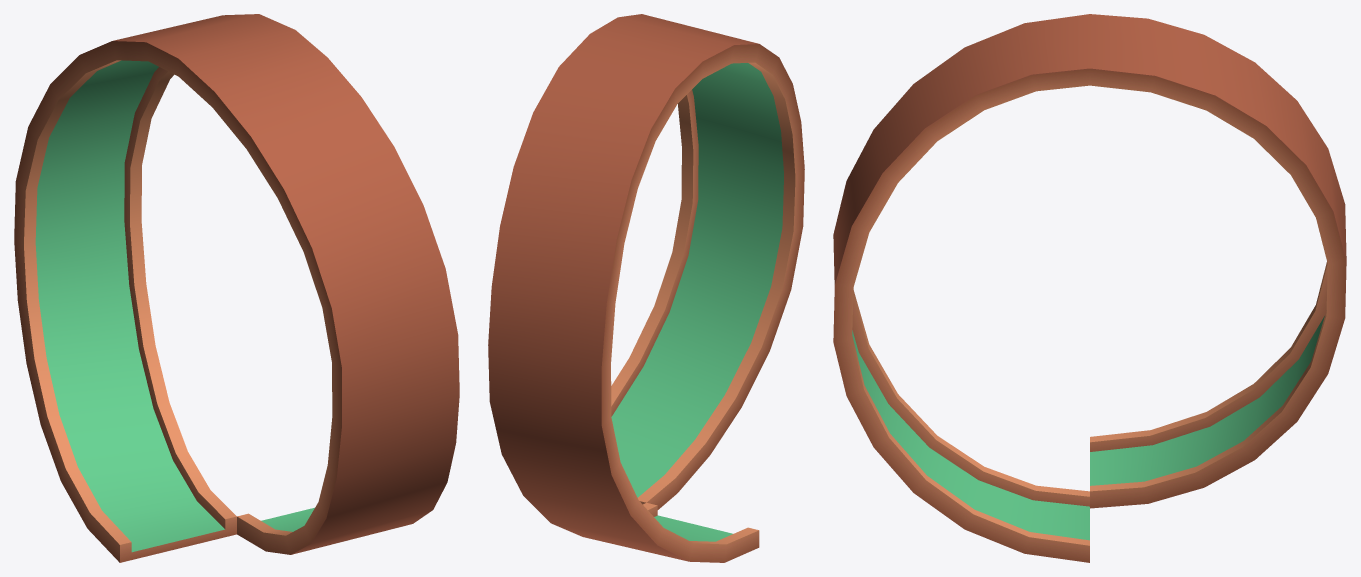
Rendered from spline-default-looping.glb.
The picture shows the model from 3 angles, left to right: view 1: azimuth 30°, elevation 25°; view 2: azimuth 150°, elevation 25°; view 3: azimuth 270°, elevation 25°; orthographic projection. The views are drawn at different scales.
Parts seen in each view (by area): view 1: spline-default-looping; view 2: spline-default-looping; view 3: spline-default-looping.
Boxes of the visible parts, x1=… form: spline-default-looping: x1=14, y1=14, x2=459, y2=562; spline-default-looping: x1=488, y1=14, x2=804, y2=562; spline-default-looping: x1=833, y1=14, x2=1346, y2=562.
Bounding box in the file's own units: 2 × 4 × 3.98.
Materials: 1 (1 with a texture image).
